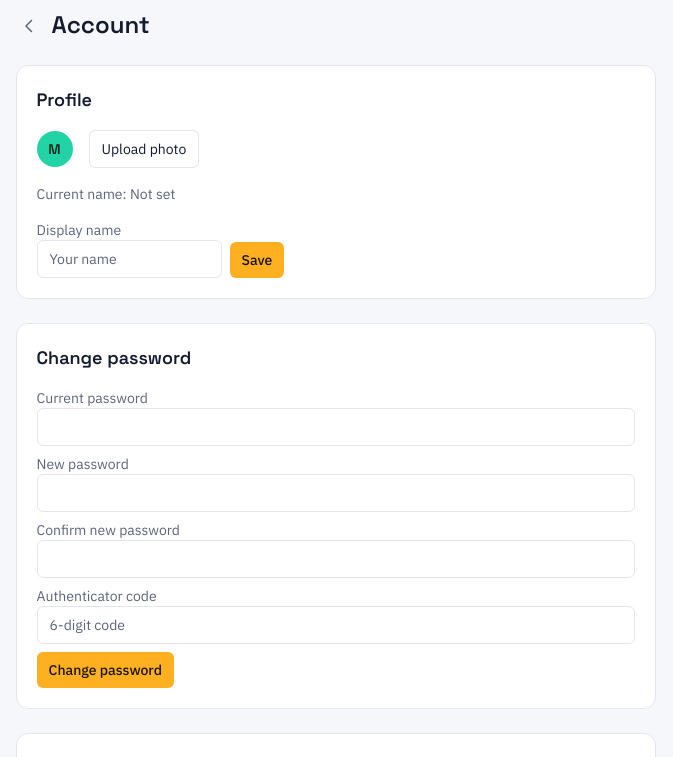
AccountPage › changes the password when current password and TOTP code are correct
Type "old-password" into the password field labelled "Current password" at (336,427), box [36,408,634,446]
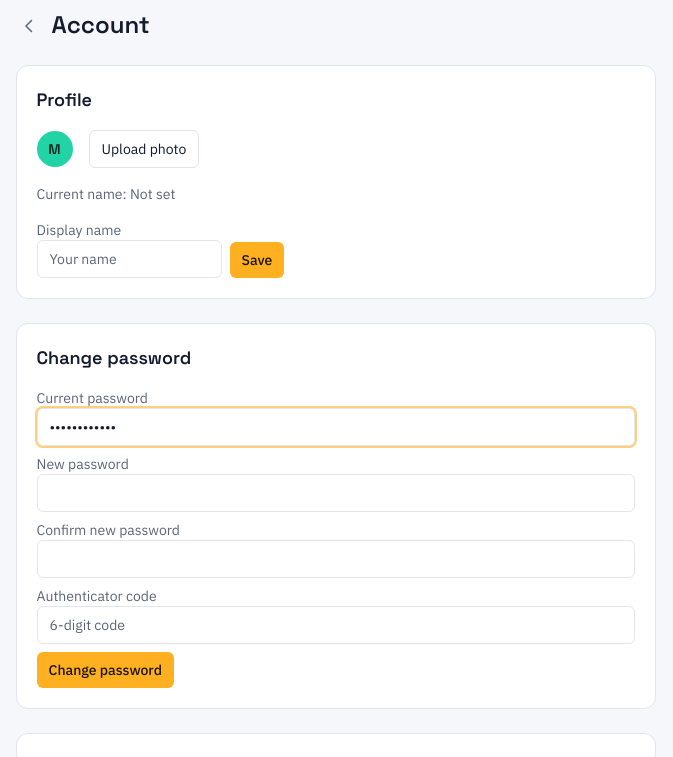
Type "new-password" into the password field labelled "New password" at (336,493), box [36,474,634,512]
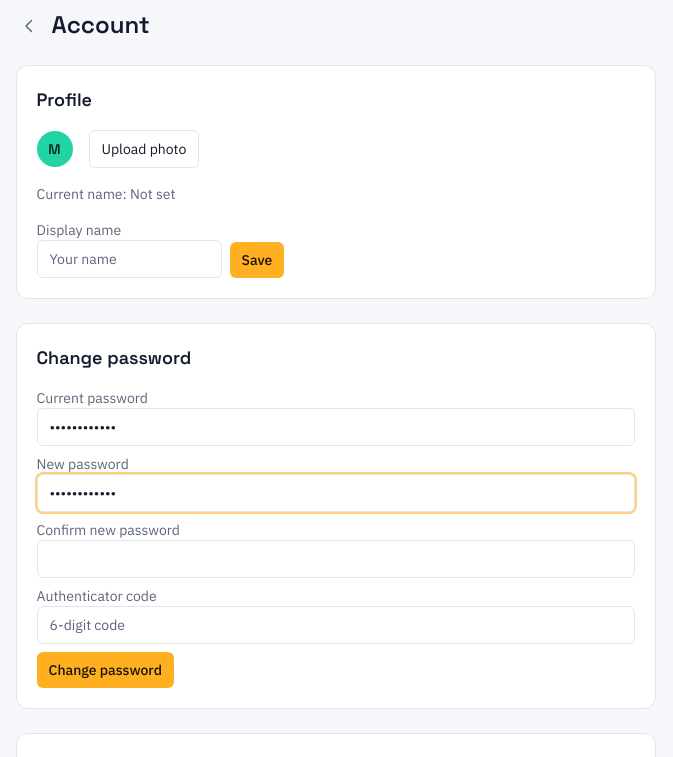
Type "new-password" into the password field labelled "Confirm new password" at (336,559), box [36,540,634,578]
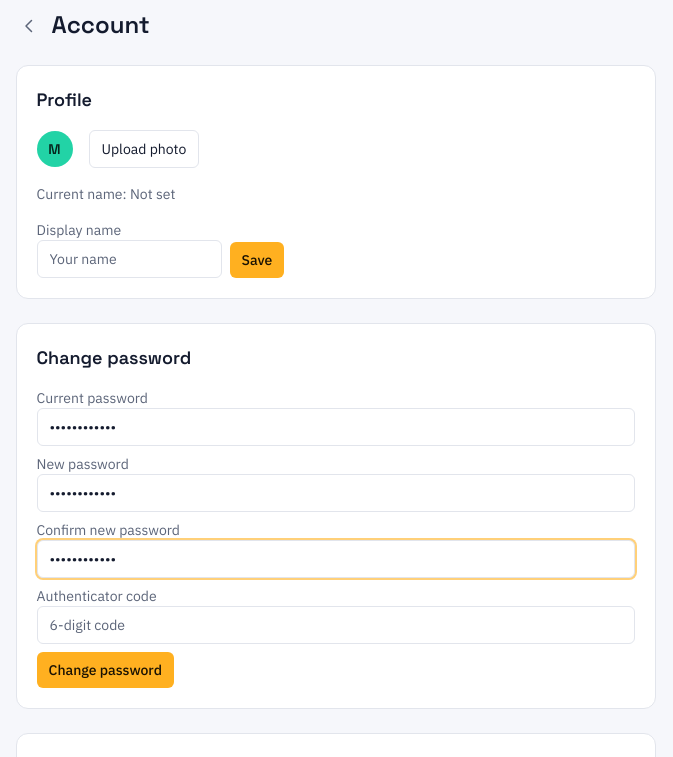
Type "123456" into the field labelled "Authenticator code" at (336,625), box [36,606,634,644]
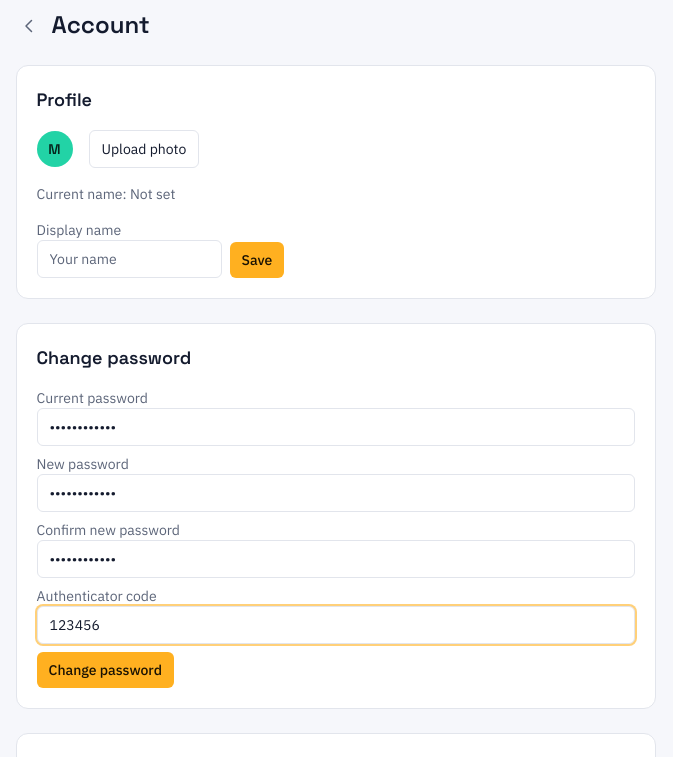
Click the button "Change password" at (105,670), box [36,652,174,688]
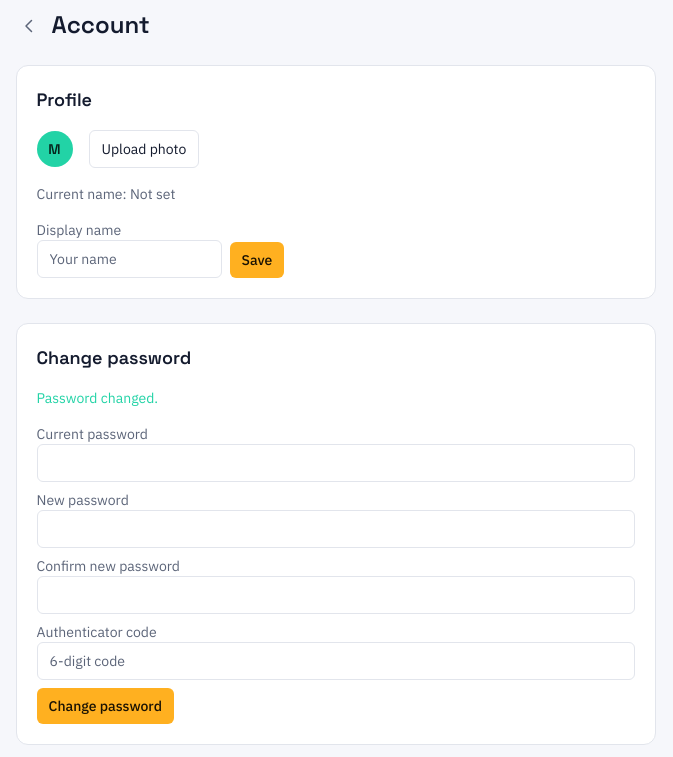
Result: the text "Password changed." is shown at [36,389,158,407]
